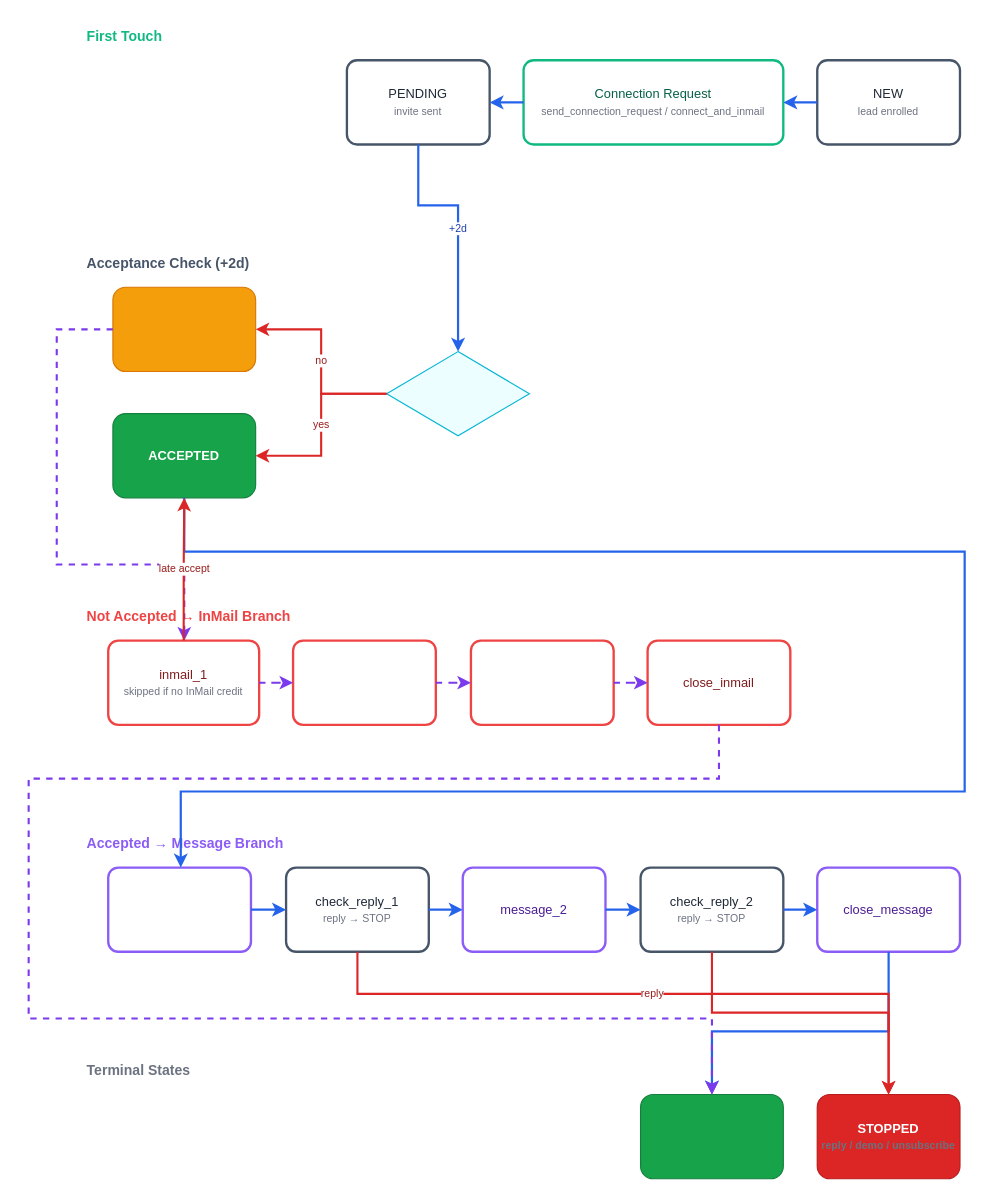
Image size: 1004x1199. Some labels were removed from this diagram. The shapes that lost their labels are listed below. From the top down, each one's centre as x and y in pixels, then its label:
At (x=184, y=328): "NOT ACCEPTED pending after N / declined".
At (x=457, y=393): "Accepted? detect_acceptance (DOM)".
At (x=363, y=682): "inmail_followup".
At (x=541, y=682): "inmail_followup_2".
At (x=179, y=909): "message_1".
At (x=711, y=1136): "COMPLETED".
